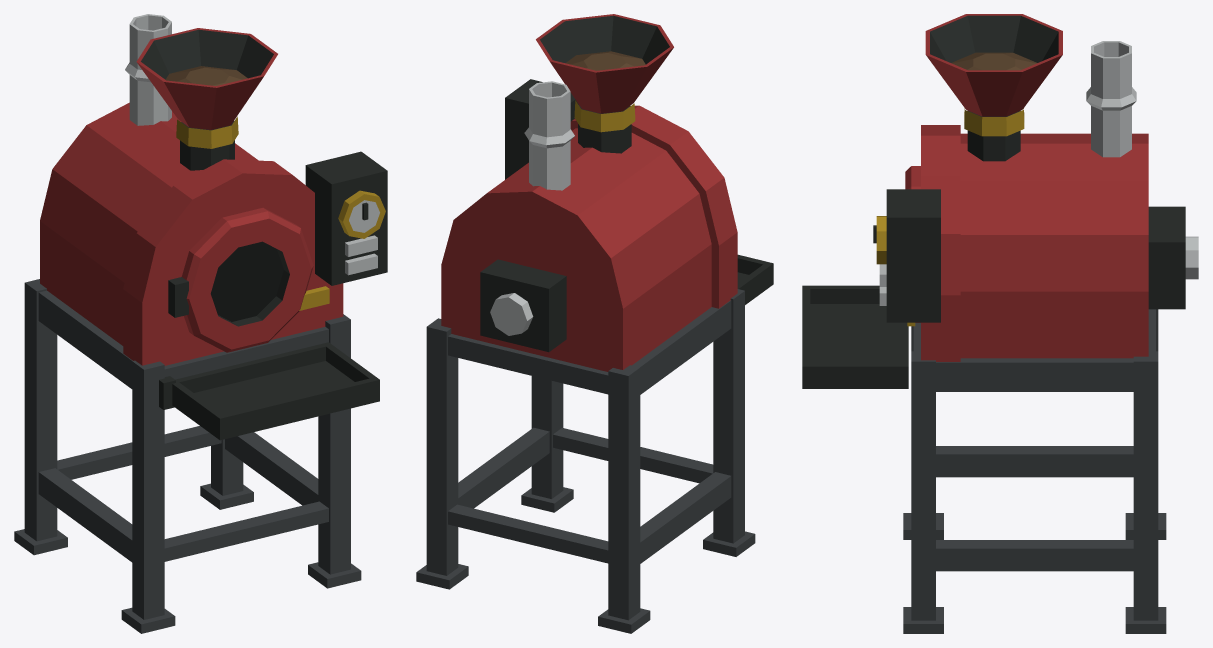
Rendered from shop-coffee-roaster-c6a2b5.glb.
The picture shows the model from 3 angles, left to right: view 1: azimuth 30°, elevation 25°; view 2: azimuth 150°, elevation 25°; view 3: azimuth 270°, elevation 25°; orthographic projection. The views are drawn at different scales.
Parts seen in each view (by area): view 1: shop-coffee-roaster, door, tray, hopper; view 2: shop-coffee-roaster, hopper, tray; view 3: shop-coffee-roaster, hopper, tray.
Boxes of the visible parts, box(x1,y1,x2,y2) form: shop-coffee-roaster: box(14, 14, 387, 633); door: box(168, 207, 329, 352); tray: box(172, 342, 379, 440); hopper: box(136, 28, 277, 148); shop-coffee-roaster: box(416, 79, 755, 633); hopper: box(536, 14, 673, 132); tray: box(737, 254, 773, 304); shop-coffee-roaster: box(873, 41, 1198, 633); hopper: box(925, 14, 1062, 136); tray: box(802, 285, 908, 388).
Size of the model in its own units: 0.576 by 1.2 by 0.801.
